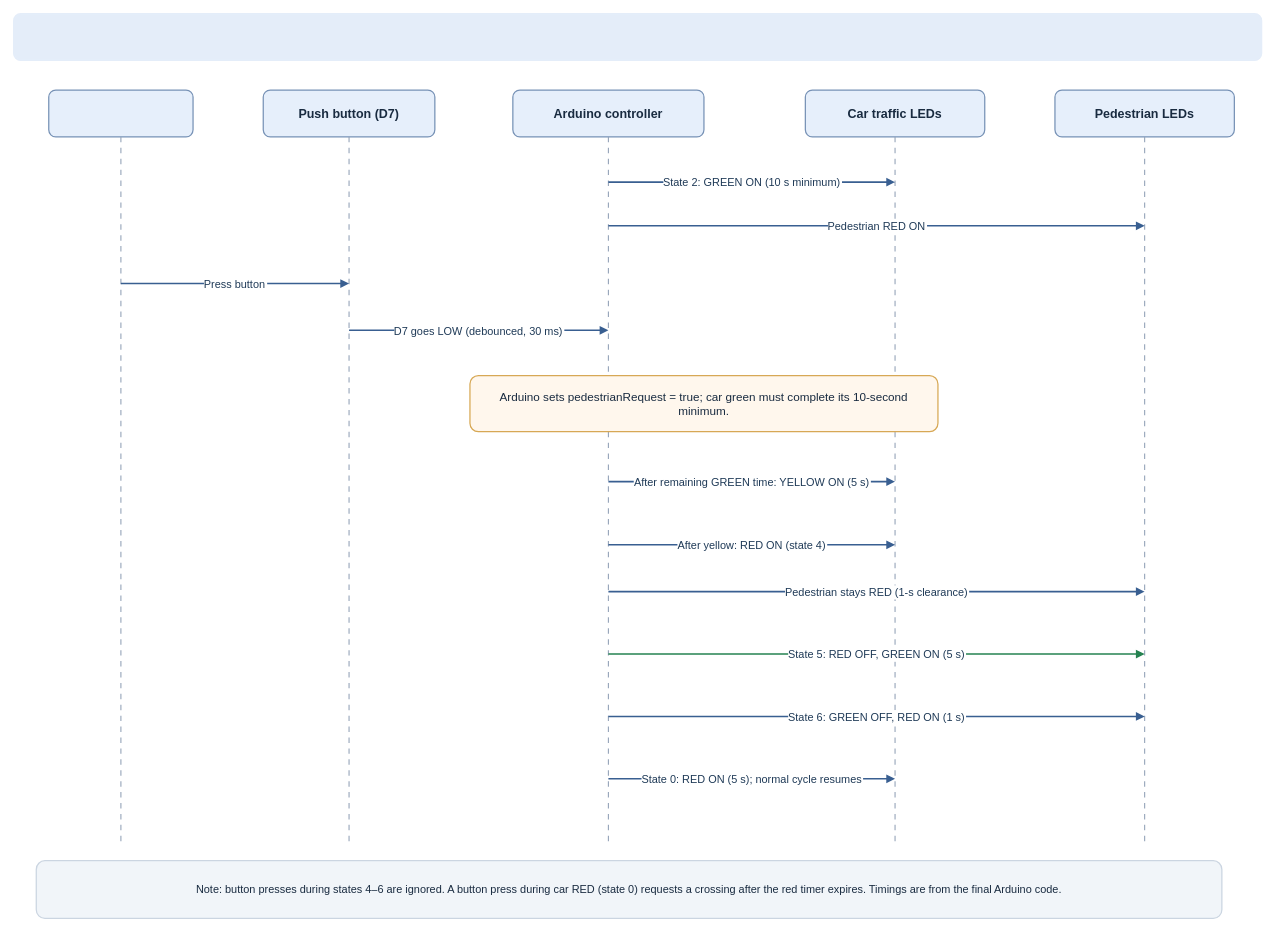
Image size: 1276x933. Some labels were removed from this diagram. The centre of each missing label's shape, as x and y in pixels:
Pedestrian: the point at 120,113
TASK 2 | SEQUENCE DIAGRAM — BUTTON PRESSED WHILE CARS ARE GREEN: the point at 637,37
